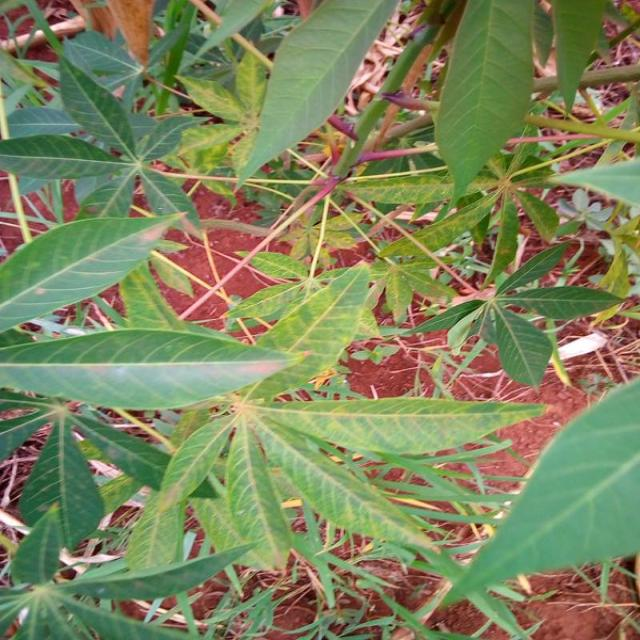cassava leaf: (438, 374, 638, 635), (231, 0, 400, 191), (0, 324, 299, 410), (0, 210, 187, 333), (434, 0, 534, 206)
